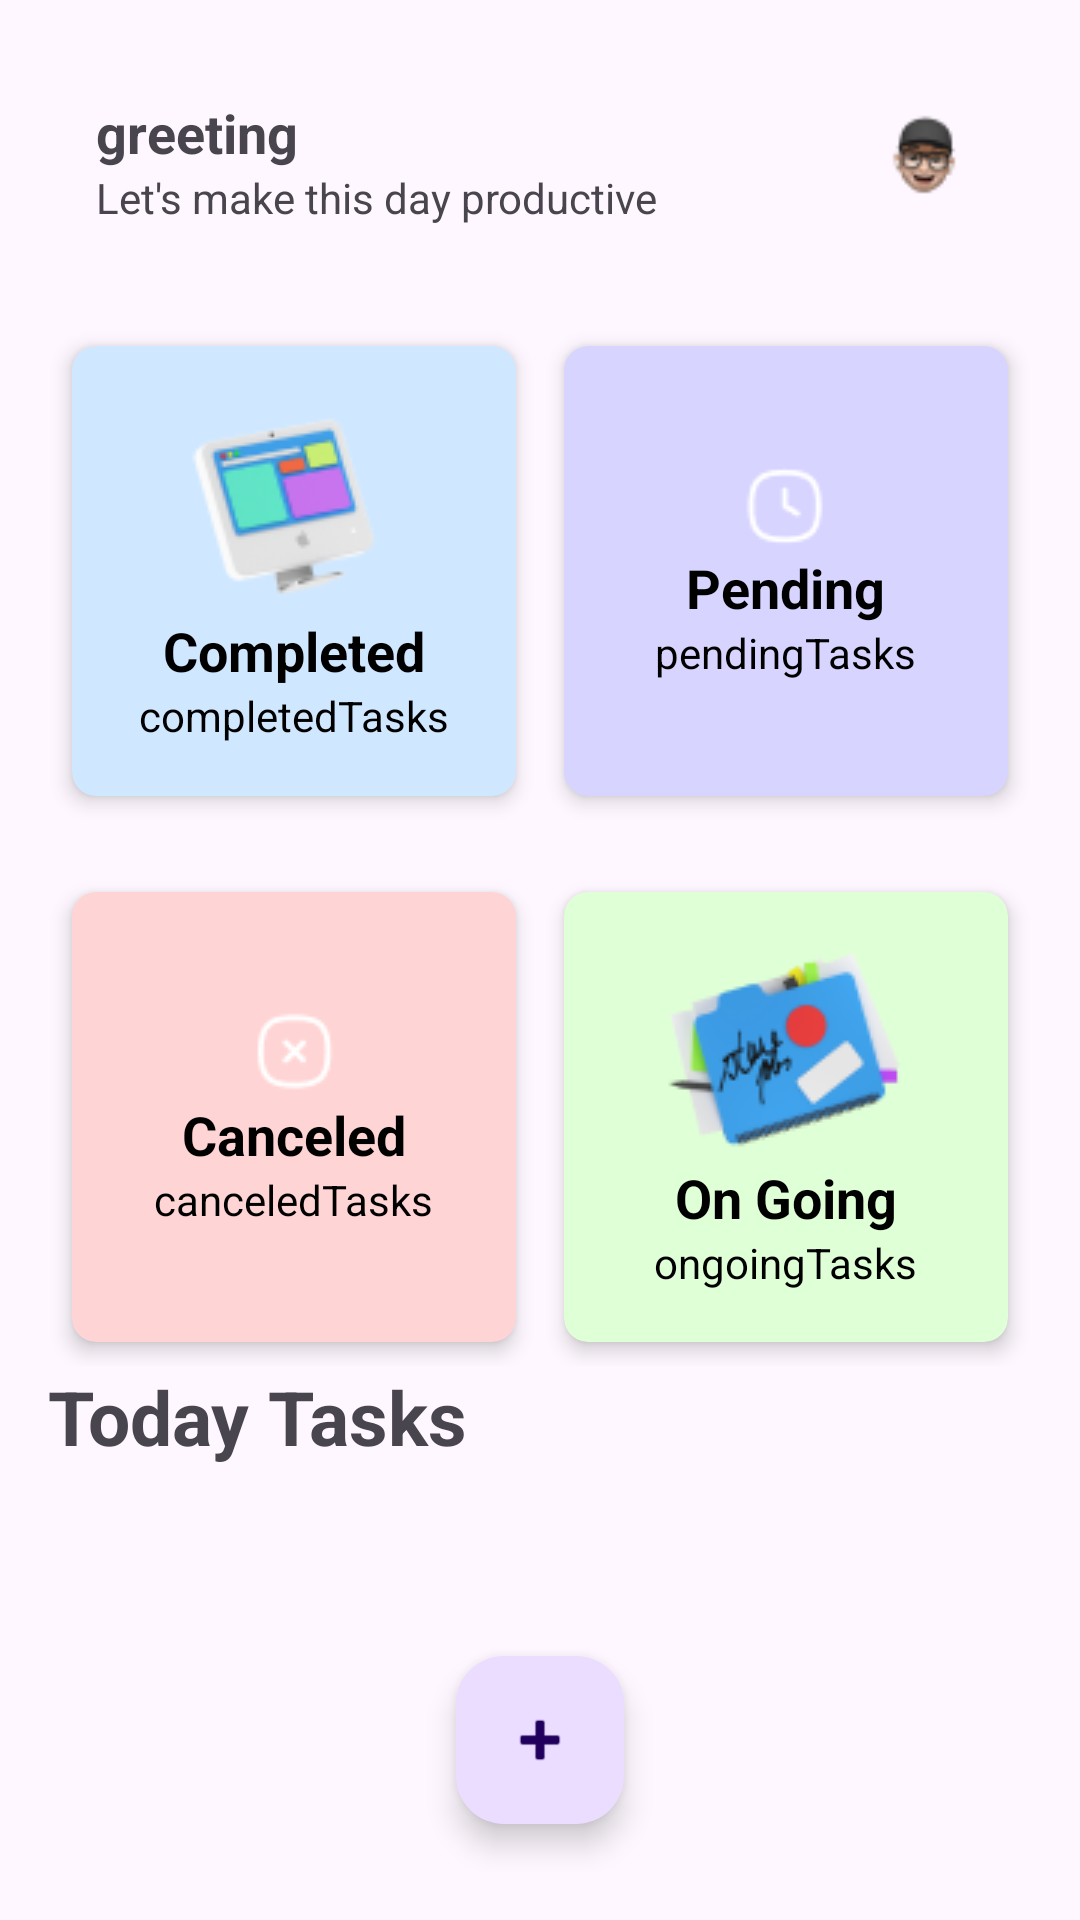

Named icons in this screenshot (1080 × 1920) and their bounding boxes, [x1=x1, y1=y1, x2=x2, y2=y2]:
Add Task: [x1=456, y1=1656, x2=624, y2=1824]
Profile: [x1=893, y1=116, x2=956, y2=194]
time: [x1=749, y1=470, x2=821, y2=542]
